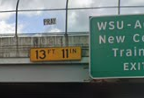1: (33, 48, 39, 60), (64, 47, 69, 59), (60, 48, 65, 59)
3: (38, 49, 46, 60)
overheadsign: (30, 47, 82, 61)
